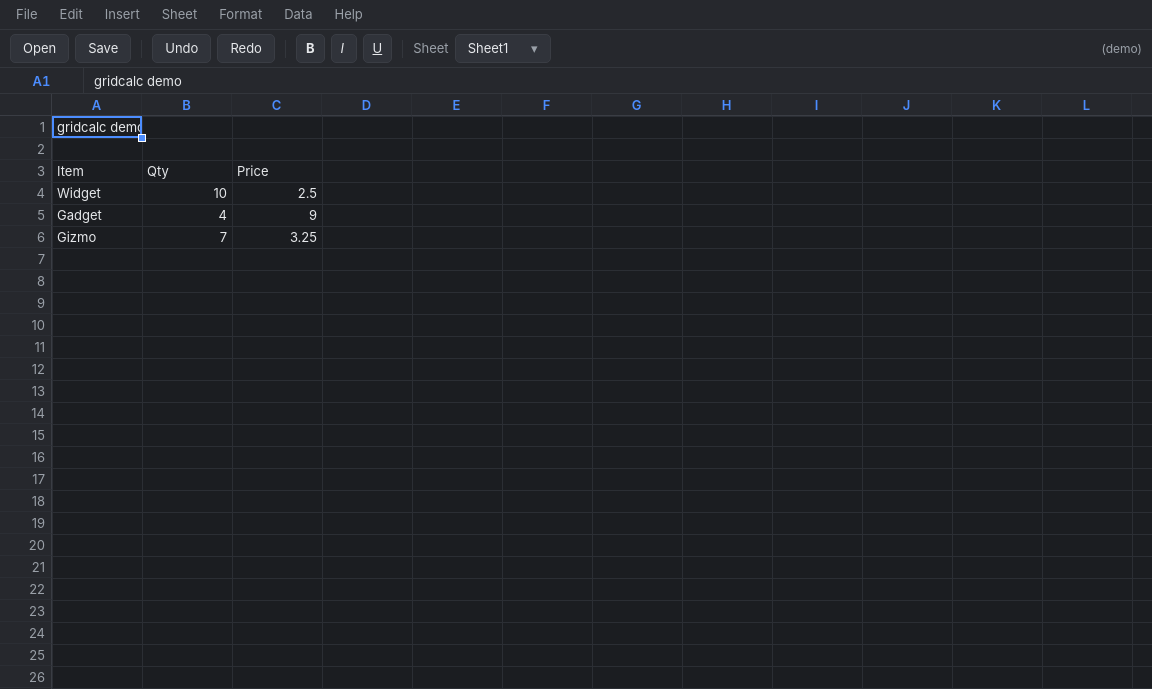
a solve paints the sheet, and editing clears it again
Click the menu item "Data" at (298, 15), box x1=274 y1=2 x2=322 y2=27
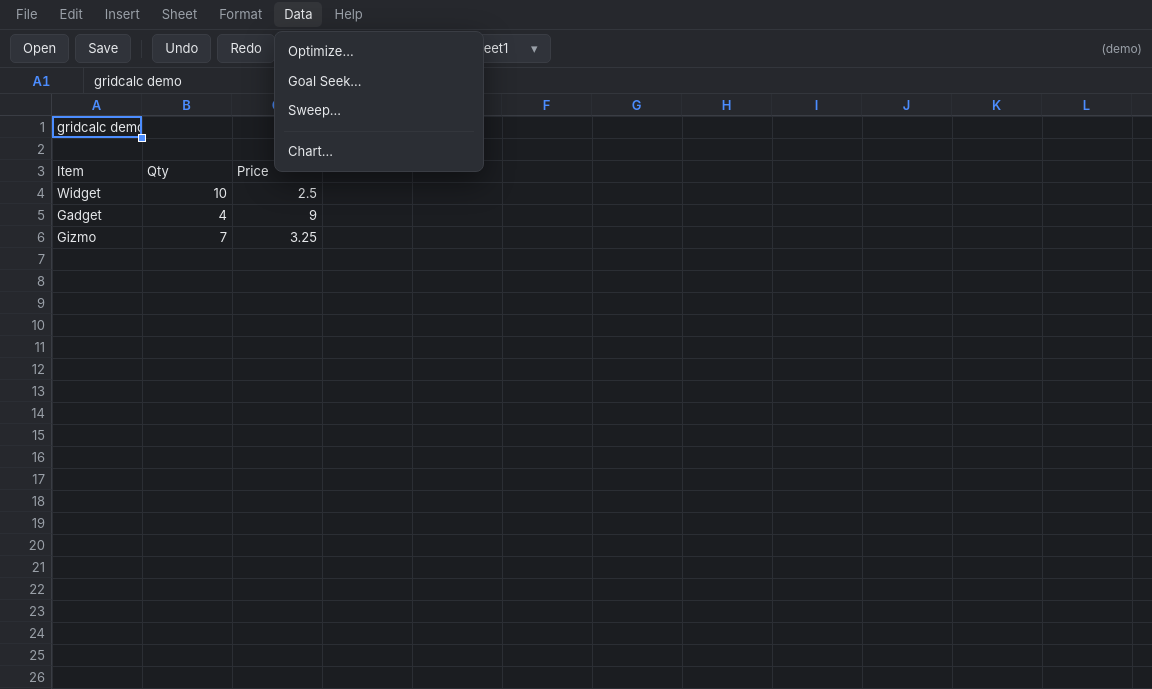
Click the menu item "Optimize…" at (321, 51), box x1=288 y1=43 x2=354 y2=59
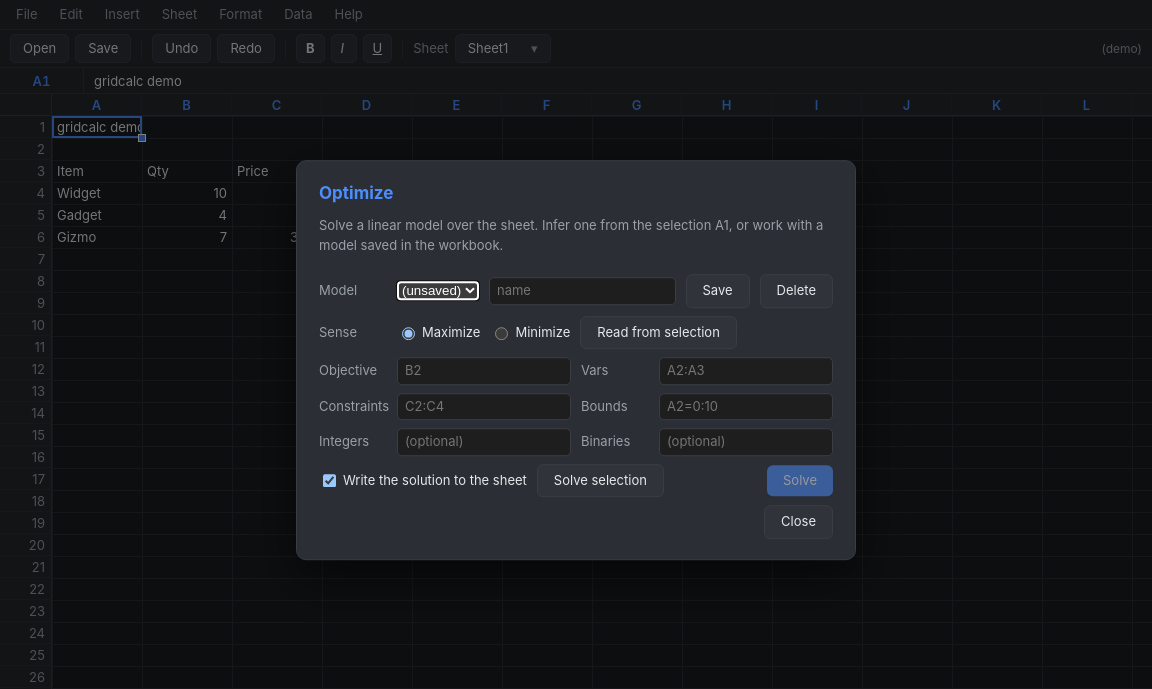
Click the button "Solve selection" at (600, 481), box x1=537 y1=464 x2=664 y2=497
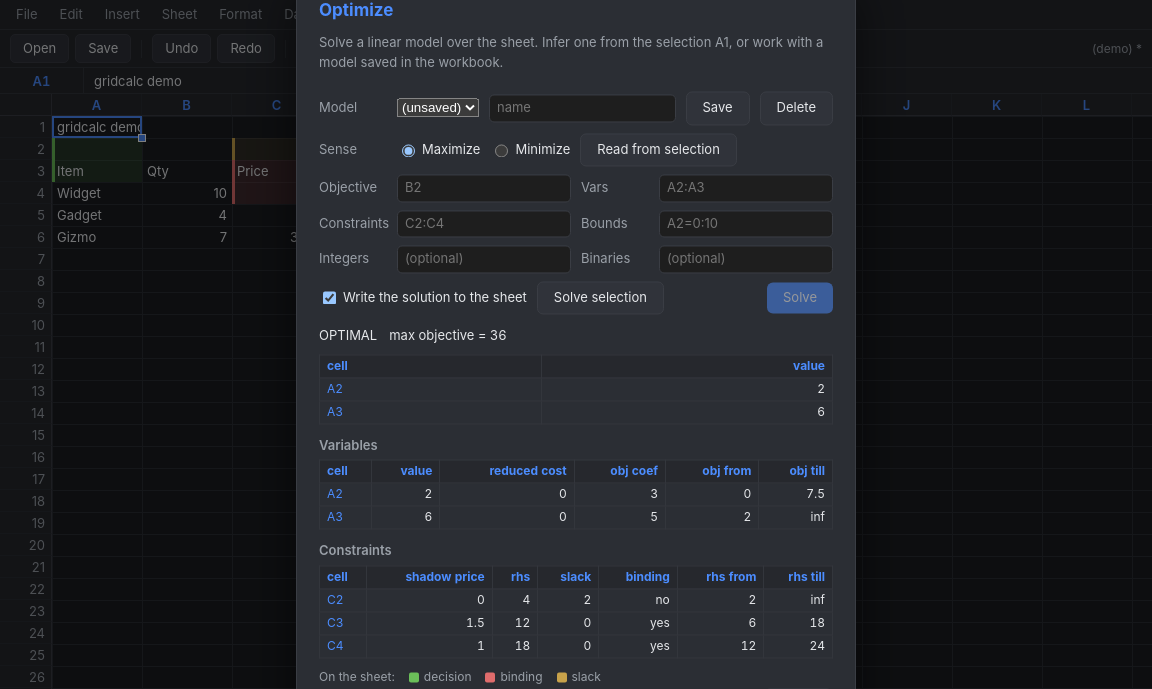
Check: the element with test id "solve-result" is shown, box x1=319 y1=326 x2=833 y2=658
Check: the 1st element with class "annot" is shown, box x1=52 y1=138 x2=142 y2=160
An edit invalidates the solution, so the annotations must not linger.
Press Escape
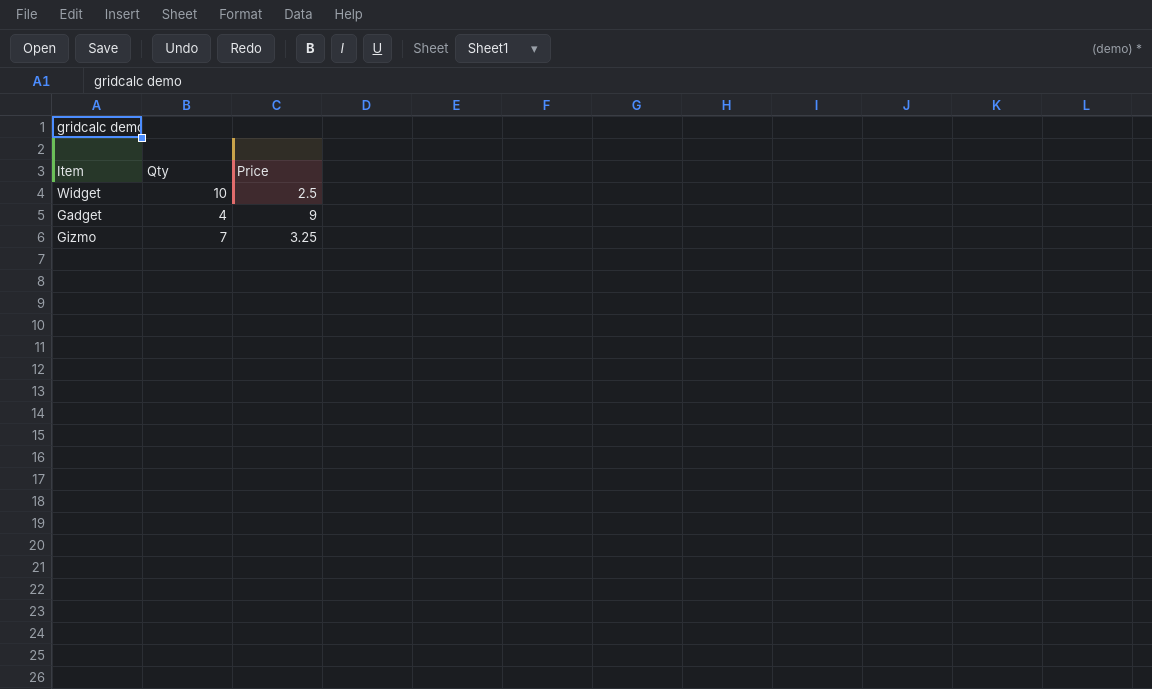
Press Delete
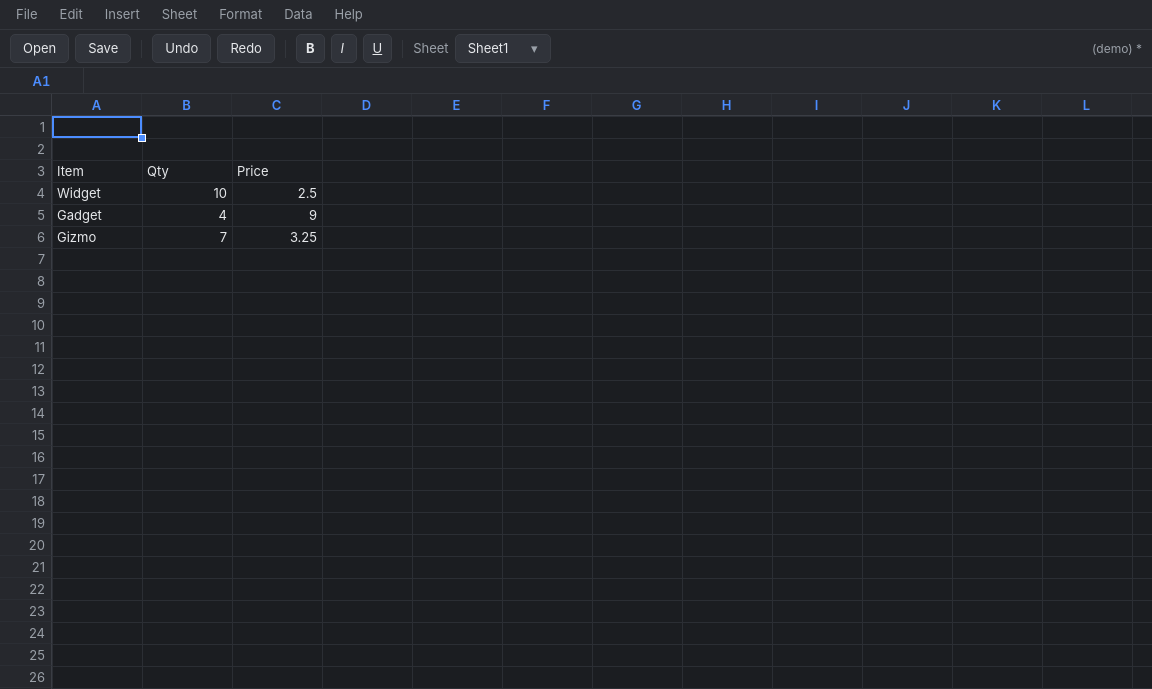
Check: no elements with class "annot" are shown
